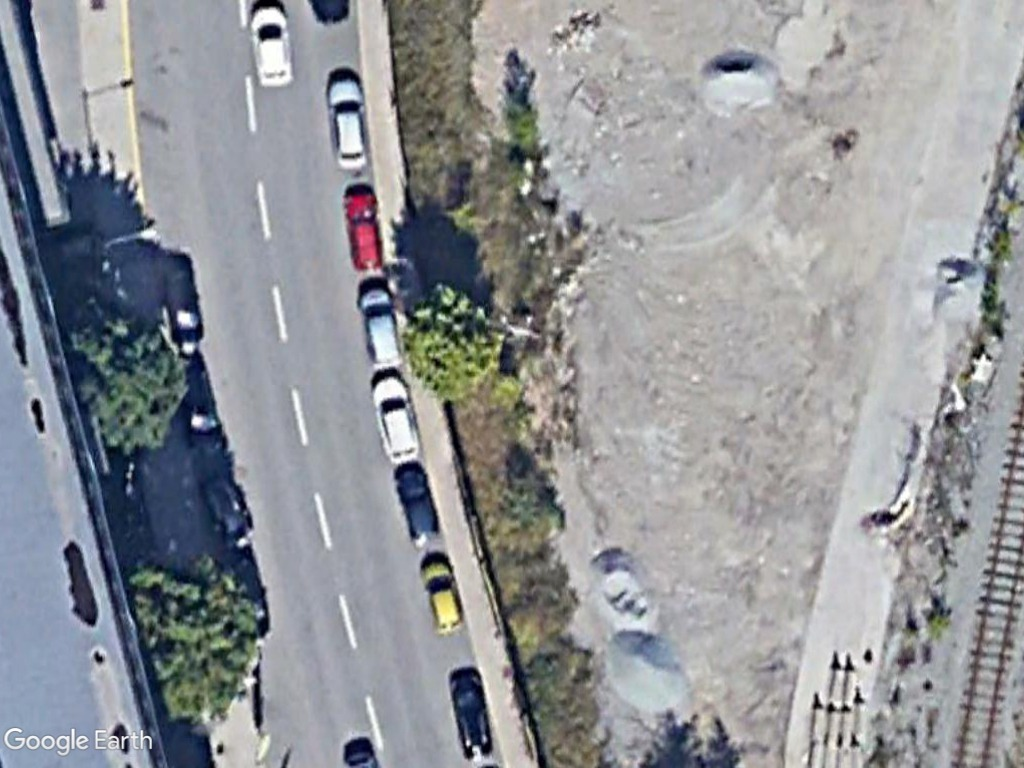car: (365, 368, 421, 465), (321, 71, 374, 171), (354, 280, 408, 376), (245, 2, 301, 94), (335, 187, 391, 277), (447, 670, 499, 763), (413, 550, 468, 637), (392, 458, 444, 548)
